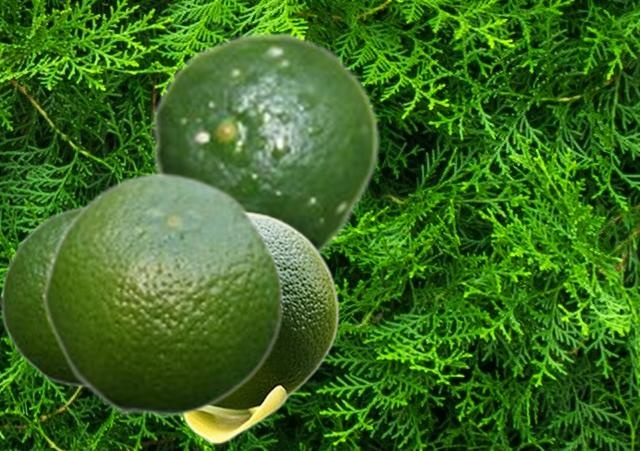calamansi: (41, 170, 284, 416), (151, 31, 380, 255), (180, 211, 338, 443), (0, 205, 84, 387)
